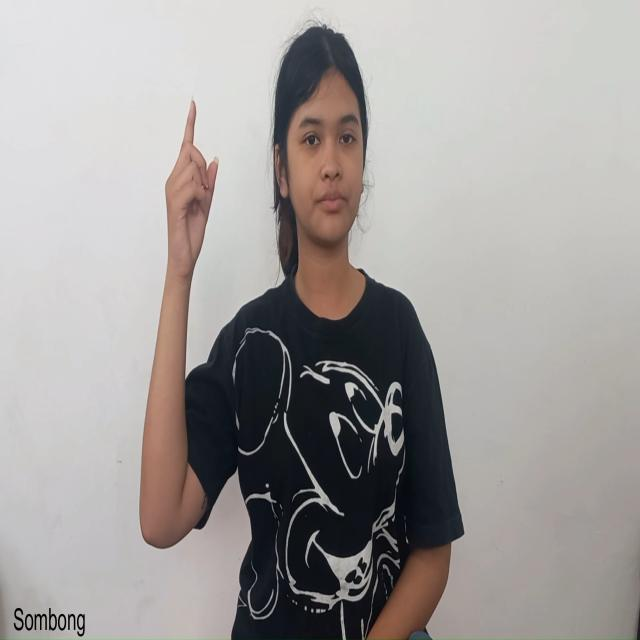Sombong -BISINDO-: (137, 93, 221, 553)
